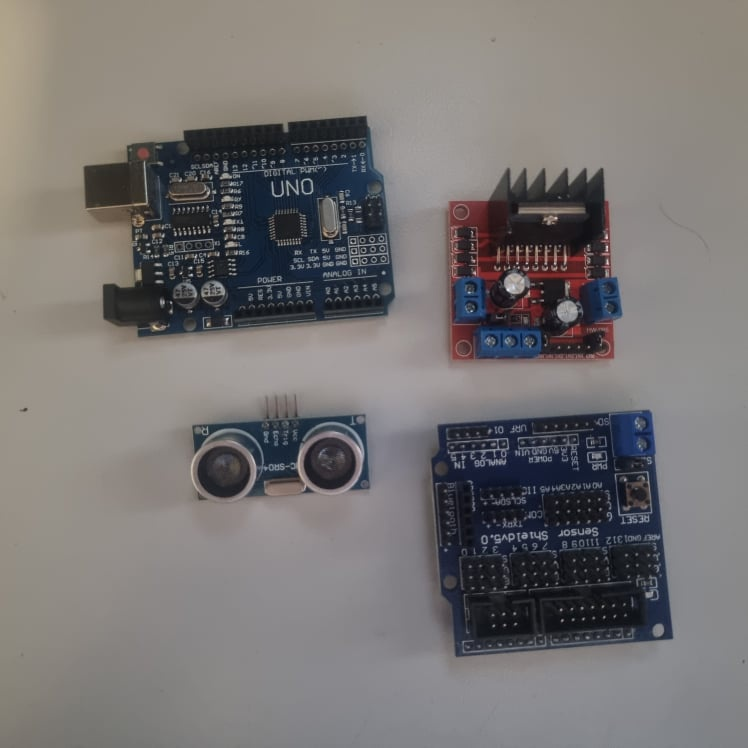5V EXPANSION: (433, 410, 674, 659)
MOTOR: (448, 167, 625, 362)
SENSOR: (188, 410, 377, 500)
UNO R3: (82, 116, 395, 337)
